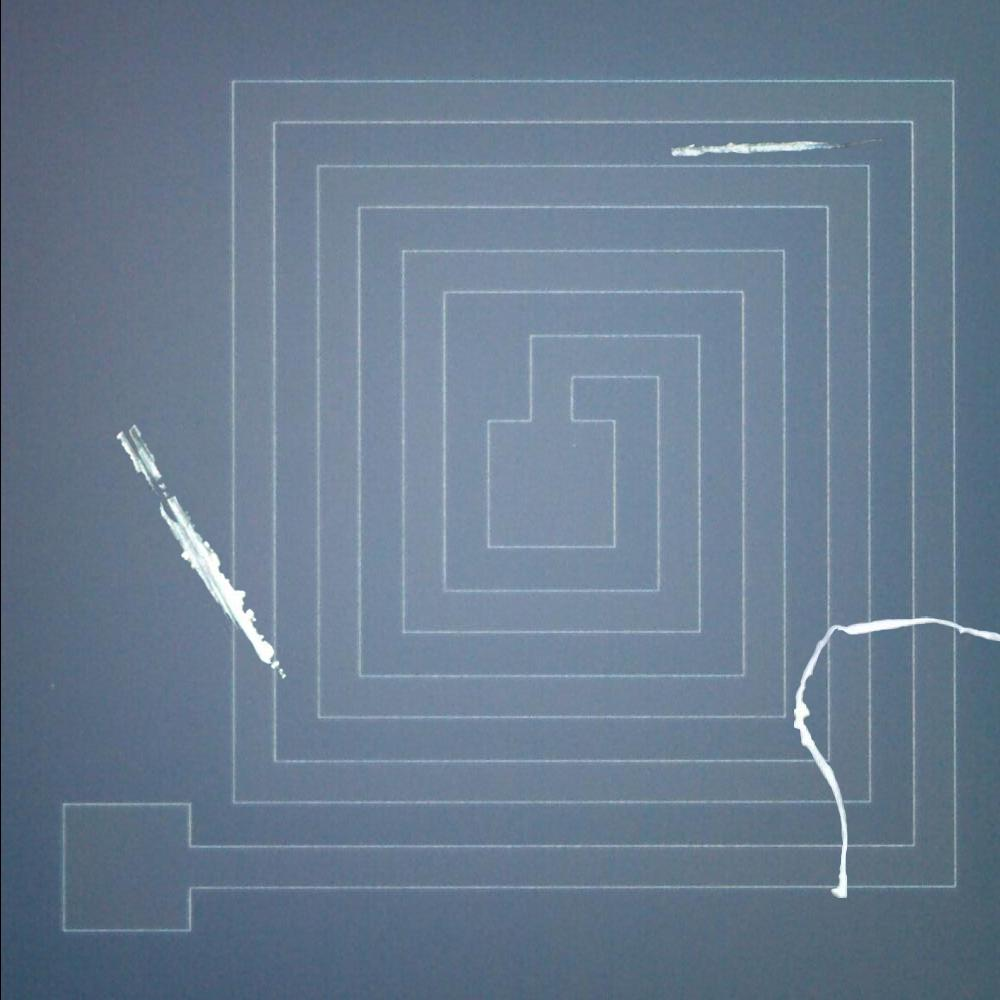line: (784, 610, 999, 909)
scratch: (112, 416, 288, 684), (658, 128, 856, 166)
